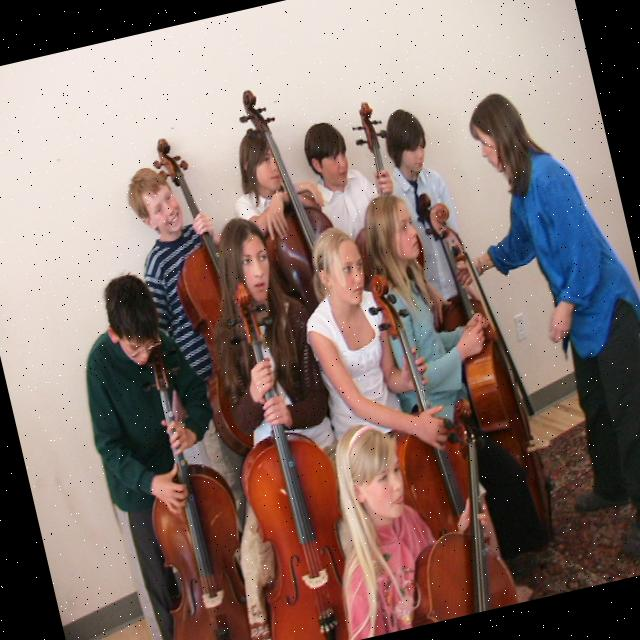cello: (190, 261, 374, 640), (407, 180, 563, 552), (98, 310, 269, 640), (138, 124, 284, 457), (348, 265, 484, 543), (358, 391, 516, 628), (223, 80, 338, 285), (347, 96, 401, 202)
